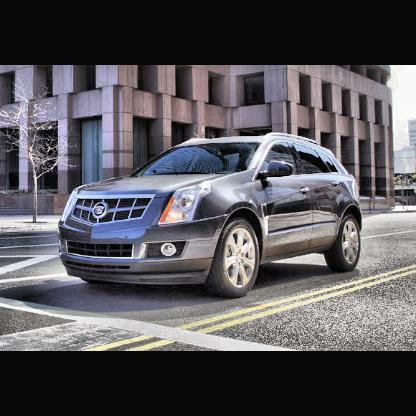Cadillac SRX SUV 2012: (57, 134, 366, 301)
